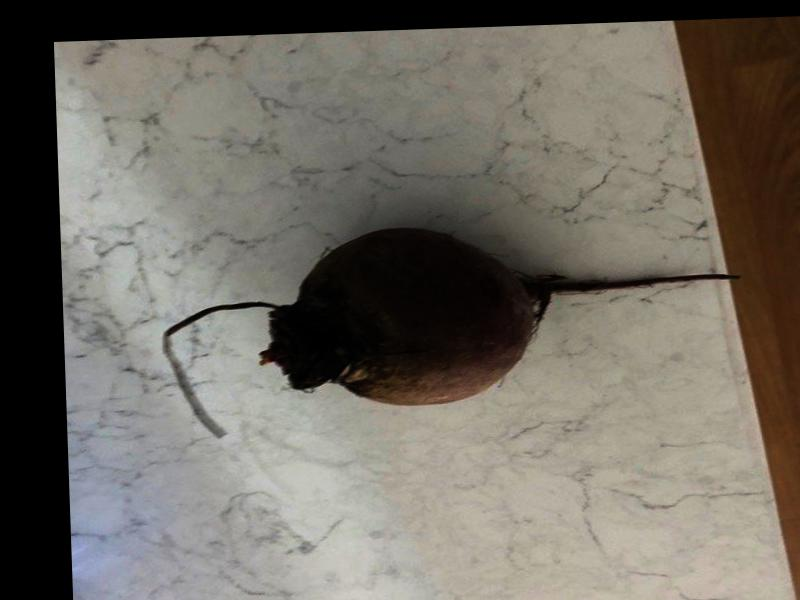Beet: (162, 216, 746, 438)
